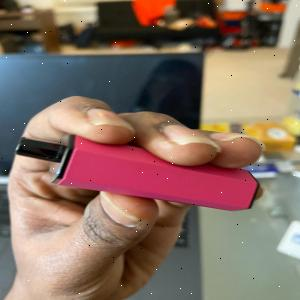Blume-E-Ciggirate: (12, 132, 261, 220)
